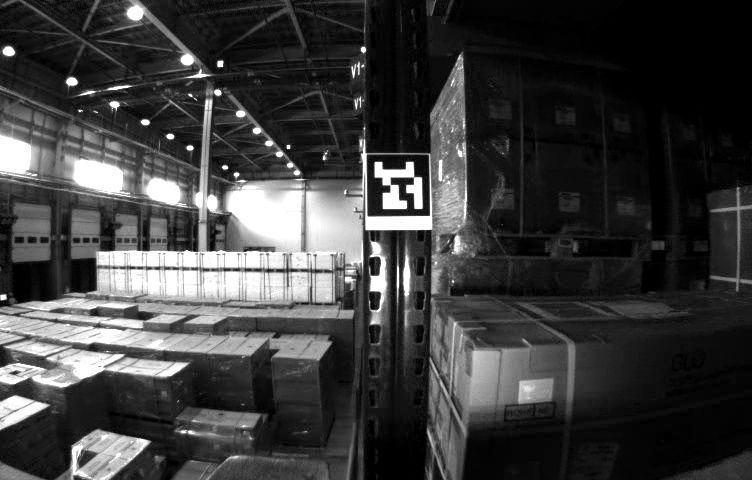True Barcode: (578, 445, 618, 480)
